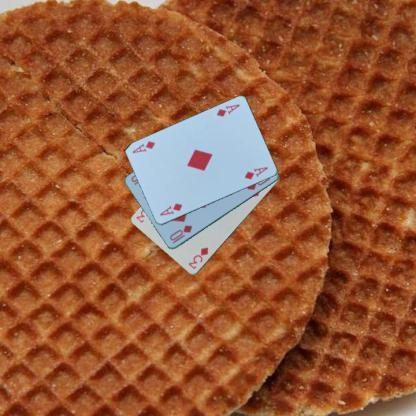10d: (168, 222, 194, 245)
3d: (186, 244, 209, 270)
Ad: (158, 200, 184, 218), (214, 102, 241, 118)
